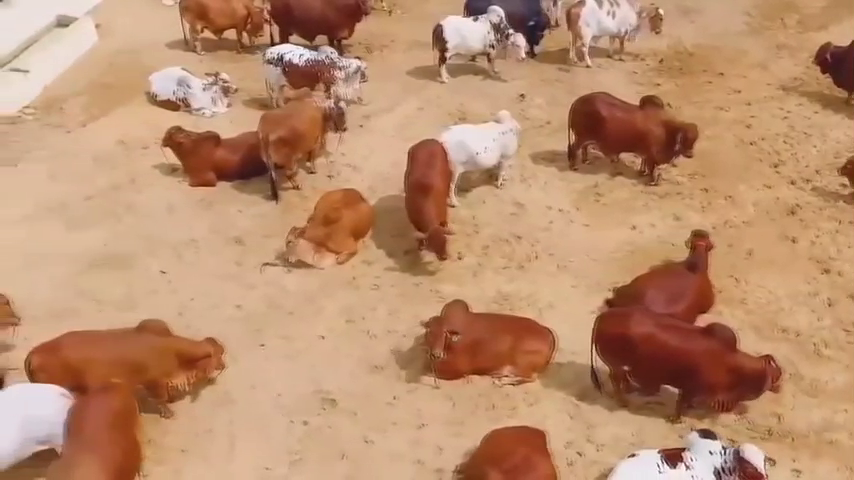bo: (580, 293, 793, 416), (29, 316, 239, 416), (415, 294, 568, 393), (558, 87, 703, 185), (604, 211, 730, 320), (593, 425, 802, 480), (246, 81, 344, 198), (43, 375, 153, 479), (151, 113, 266, 199), (246, 38, 374, 115), (272, 180, 379, 272), (435, 101, 524, 207), (399, 133, 472, 259), (430, 6, 534, 87), (438, 418, 564, 480), (557, 3, 671, 68), (3, 371, 70, 475), (141, 53, 239, 124), (270, 2, 383, 54), (172, 2, 267, 55), (461, 3, 554, 54), (811, 32, 853, 124), (1, 281, 31, 348)
